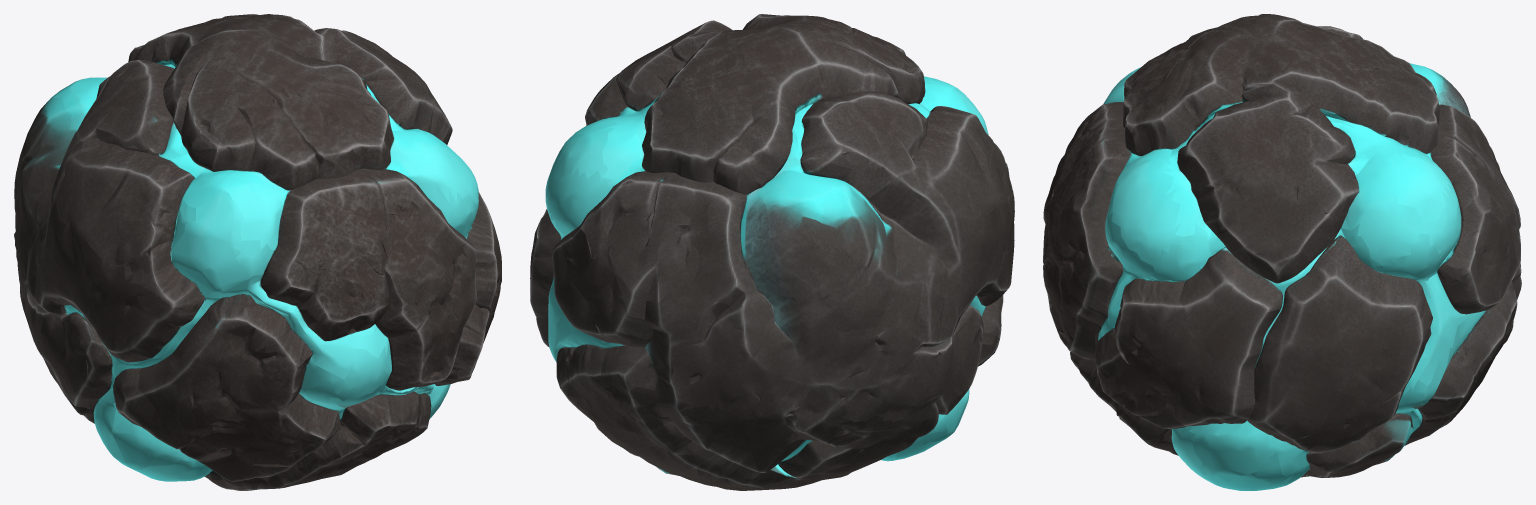
The model's file is asteroid-raw.glb.
The picture shows the model from 3 angles, left to right: view 1: azimuth 30°, elevation 25°; view 2: azimuth 150°, elevation 25°; view 3: azimuth 270°, elevation 25°; orthographic projection. The views are drawn at different scales.
Visible parts, largest first — view 1: Mesh_0; view 2: Mesh_0; view 3: Mesh_0.
Boxes of the visible parts, bbox=[...] form: Mesh_0: bbox=[14, 14, 501, 490]; Mesh_0: bbox=[530, 14, 1014, 490]; Mesh_0: bbox=[1043, 14, 1521, 490].
Size of the model in its own units: 1.8 by 1.85 by 1.9.
Materials: 1 (1 with a texture image).
